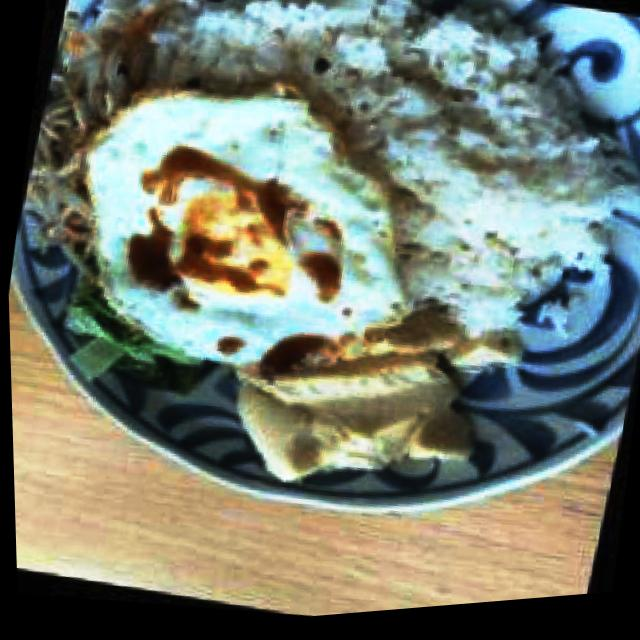fried_eggs: (45, 41, 439, 408)
mung_bean_sprouts: (18, 0, 162, 252)
rice: (109, 0, 640, 375)
